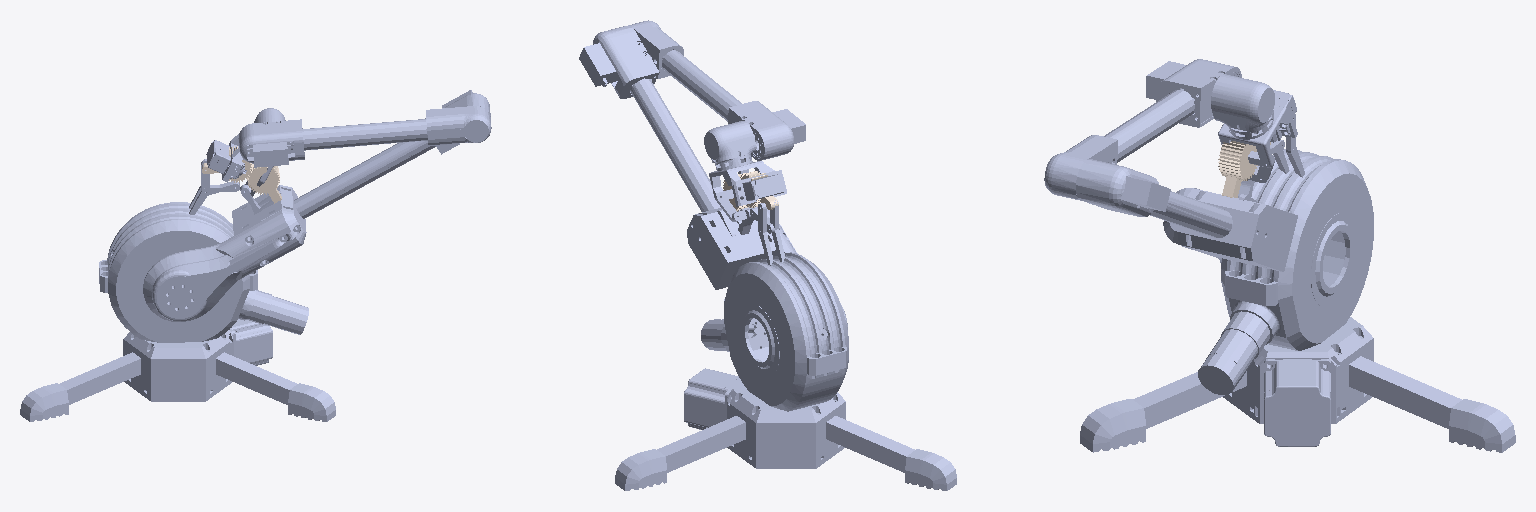
The robot description file, URDF, robot "urdf sin gripper":
<?xml version="1.0" encoding="utf-8"?>
<!-- This URDF was automatically created by SolidWorks to URDF Exporter! Originally created by Stephen Brawner (brawner@gmail.com) 
     Commit Version: 1.6.0-4-g7f85cfe  Build Version: 1.6.7995.38578
     For more information, please see http://wiki.ros.org/sw_urdf_exporter -->
<robot
  name="urdf sin gripper">
  <link
    name="base_link">
    <inertial>
      <origin
        xyz="0.0620154234110682 0.0287828530200332 0.0194399840557853"
        rpy="0 0 0" />
      <mass
        value="0.814654269422783" />
      <inertia
        ixx="0.00321225759807019"
        ixy="-5.94963872437991E-05"
        ixz="-4.09310030216239E-06"
        iyy="0.00681091711547534"
        iyz="1.70805052077488E-07"
        izz="0.00410985447956931" />
    </inertial>
    <visual>
      <origin
        xyz="0 0 0"
        rpy="0 0 0" />
      <geometry>
        <mesh
          filename="package://urdf sin gripper/meshes/base_link.STL" />
      </geometry>
      <material
        name="">
        <color
          rgba="0.792156862745098 0.819607843137255 0.933333333333333 1" />
      </material>
    </visual>
    <collision>
      <origin
        xyz="0 0 0"
        rpy="0 0 0" />
      <geometry>
        <mesh
          filename="package://urdf sin gripper/meshes/base_link.STL" />
      </geometry>
    </collision>
  </link>
  <link
    name="1">
    <inertial>
      <origin
        xyz="0.0194962568603395 0.0112262595729474 0.0781135135871188"
        rpy="0 0 0" />
      <mass
        value="0.355121607272122" />
      <inertia
        ixx="0.00125603540832503"
        ixy="-0.000555249016360597"
        ixz="0.000259680745666649"
        iyy="0.00189659689264714"
        iyz="0.000150449864511745"
        izz="0.00165493751639618" />
    </inertial>
    <visual>
      <origin
        xyz="0 0 0"
        rpy="0 0 0" />
      <geometry>
        <mesh
          filename="package://urdf sin gripper/meshes/1.STL" />
      </geometry>
      <material
        name="">
        <color
          rgba="0.792156862745098 0.819607843137255 0.933333333333333 1" />
      </material>
    </visual>
    <collision>
      <origin
        xyz="0 0 0"
        rpy="0 0 0" />
      <geometry>
        <mesh
          filename="package://urdf sin gripper/meshes/1.STL" />
      </geometry>
    </collision>
  </link>
  <joint
    name="1"
    type="continuous">
    <origin
      xyz="0.045435 -0.019492 0.042792"
      rpy="0 0 -1.01533" />
    <parent
      link="base_link" />
    <child
      link="1" />
    <axis
      xyz="0 0 1" />
  </joint>
  <link
    name="2">
    <inertial>
      <origin
        xyz="0.0321774632843499 0.038751597886396 0.129793728764849"
        rpy="0 0 0" />
      <mass
        value="0.514087338751135" />
      <inertia
        ixx="0.00180785055102584"
        ixy="7.7480280247106E-05"
        ixz="-0.000644825608500349"
        iyy="0.00201837695644572"
        iyz="3.95369173930041E-05"
        izz="0.000642830284233535" />
    </inertial>
    <visual>
      <origin
        xyz="0 0 0"
        rpy="0 0 0" />
      <geometry>
        <mesh
          filename="package://urdf sin gripper/meshes/2.STL" />
      </geometry>
      <material
        name="">
        <color
          rgba="0.792156862745098 0.819607843137255 0.933333333333333 1" />
      </material>
    </visual>
    <collision>
      <origin
        xyz="0 0 0"
        rpy="0 0 0" />
      <geometry>
        <mesh
          filename="package://urdf sin gripper/meshes/2.STL" />
      </geometry>
    </collision>
  </link>
  <joint
    name="2"
    type="continuous">
    <origin
      xyz="0 0 0.093058"
      rpy="1.2140837 -1.0185975 2.4015789" />
    <parent
      link="1" />
    <child
      link="2" />
    <axis
      xyz="0.5 -0.86603 0" />
  </joint>
  <link
    name="3">
    <inertial>
      <origin
        xyz="0.160285270725544 0.0390539200540733 -0.0327831629997222"
        rpy="0 0 0" />
      <mass
        value="0.148273898279601" />
      <inertia
        ixx="5.33432316662096E-05"
        ixy="-3.05054815237732E-06"
        ixz="3.81633242302653E-05"
        iyy="0.000225521073819987"
        iyz="5.28305588815489E-07"
        izz="0.000231079183202213" />
    </inertial>
    <visual>
      <origin
        xyz="0 0 0"
        rpy="0 0 0" />
      <geometry>
        <mesh
          filename="package://urdf sin gripper/meshes/3.STL" />
      </geometry>
      <material
        name="">
        <color
          rgba="0.792156862745098 0.819607843137255 0.933333333333333 1" />
      </material>
    </visual>
    <collision>
      <origin
        xyz="0 0 0"
        rpy="0 0 0" />
      <geometry>
        <mesh
          filename="package://urdf sin gripper/meshes/3.STL" />
      </geometry>
    </collision>
  </link>
  <joint
    name="3"
    type="continuous">
    <origin
      xyz="0.11856 0.068452 0.37687"
      rpy="0 1.260502 0.5236" />
    <parent
      link="2" />
    <child
      link="3" />
    <axis
      xyz="0 -1 0" />
  </joint>
  <link
    name="4">
    <inertial>
      <origin
        xyz="0.021683 -0.016889 0.028812"
        rpy="0 0 0" />
      <mass
        value="0.0891556465" />
      <inertia
        ixx="3.18119772e-05"
        ixy="-1.64344740e-06"
        ixz="1.39260122e-06"
        iyy="2.83484290e-05"
        iyz="8.44426795e-08"
        izz="3.15928887e-05" />
    </inertial>
    <visual>
      <origin
        xyz="0 0 0"
        rpy="3.14159265 -0.16485988 -3.14159265" />
      <geometry>
        <mesh
          filename="package://brazo4/meshes/4.STL" />
      </geometry>
      <material
        name="">
        <color
          rgba="0.792156862745098 0.819607843137255 0.933333333333333 1" />
      </material>
    </visual>
    <collision>
      <origin
        xyz="0 0 0"
        rpy="3.14159265 -0.16485988 -3.14159265" />
      <geometry>
        <mesh
          filename="package://brazo4/meshes/4.STL" />
      </geometry>
    </collision>
  </link>
  <joint
    name="4"
    type="continuous">
    <origin
      xyz="0.2336495 0 -0.0478555"
      rpy="0 2.0595163 0" />
    <parent
      link="3" />
    <child
      link="4" />
    <axis
      xyz="0 -1 0" />
  </joint>
  <link
    name="left_link">
    <inertial>
      <origin
        xyz="-0.000469947739679344 0.0174936888359443 -0.0029999999999992"
        rpy="0 0 0" />
      <mass
        value="0.00336762222486258" />
      <inertia
        ixx="6.27470613399457E-07"
        ixy="1.55947433705621E-08"
        ixz="1.32348898008484E-23"
        iyy="4.73790672083763E-08"
        iyz="-6.15422375739453E-22"
        izz="6.1872264352679E-07" />
    </inertial>
    <visual>
      <origin
        xyz="0 0 0"
        rpy="0 0 0" />
      <geometry>
        <mesh
          filename="package://brazo4/meshes/left_link.STL" />
      </geometry>
      <material
        name="">
        <color
          rgba="0.792156862745098 0.819607843137255 0.933333333333333 1" />
      </material>
    </visual>
    <collision>
      <origin
        xyz="0 0 0"
        rpy="0 0 0" />
      <geometry>
        <mesh
          filename="package://brazo4/meshes/left_link.STL" />
      </geometry>
    </collision>
  </link>
  <joint
    name="left_joint"
    type="continuous">
    <origin
      xyz="0.050729 0 0.063431"
      rpy="1.570793 0.24573 -3.141593" />
    <parent
      link="4" />
    <child
      link="left_link" />
    <axis
      xyz="0 0 1" />
  </joint>
  <link
    name="right_link">
    <inertial>
      <origin
        xyz="4.44089209850063E-15 -0.0174999999999941 0.00299999999999842"
        rpy="0 0 0" />
      <mass
        value="0.00336762222486259" />
      <inertia
        ixx="6.27889548162521E-07"
        ixy="1.11834818817169E-21"
        ixz="1.98523347012727E-23"
        iyy="4.69601324453143E-08"
        iyz="-4.11108764438855E-22"
        izz="6.18722643526792E-07" />
    </inertial>
    <visual>
      <origin
        xyz="0 0 0"
        rpy="0 0 0" />
      <geometry>
        <mesh
          filename="package://brazo4/meshes/right_link.STL" />
      </geometry>
      <material
        name="">
        <color
          rgba="0.792156862745098 0.819607843137255 0.933333333333333 1" />
      </material>
    </visual>
    <collision>
      <origin
        xyz="0 0 0"
        rpy="0 0 0" />
      <geometry>
        <mesh
          filename="package://brazo4/meshes/right_link.STL" />
      </geometry>
    </collision>
  </link>
  <joint
    name="right_joint"
    type="continuous">
    <origin
      xyz="0.059521 0 0.055264"
      rpy="1.5708 -1.423133 0" />
    <parent
      link="4" />
    <child
      link="right_link" />
    <axis
      xyz="0 0 1" />
  </joint>
  <link
    name="left_gear">
    <inertial>
      <origin
        xyz="-0.0026795656578391 9.41469124882133E-14 -0.00283964882715954"
        rpy="0 0 0" />
      <mass
        value="0.0208170455983242" />
      <inertia
        ixx="4.74146880578324E-06"
        ixy="1.37642853928824E-21"
        ixz="-1.89418670297643E-08"
        iyy="3.75851791717856E-06"
        iyz="-8.5232690317464E-21"
        izz="2.19540725542138E-06" />
    </inertial>
    <visual>
      <origin
        xyz="0 0 0"
        rpy="0 0 0" />
      <geometry>
        <mesh
          filename="package://brazo4/meshes/left_gear.STL" />
      </geometry>
      <material
        name="">
        <color
          rgba="1 0.949019607843137 0.909803921568627 1" />
      </material>
    </visual>
    <collision>
      <origin
        xyz="0 0 0"
        rpy="0 0 0" />
      <geometry>
        <mesh
          filename="package://brazo4/meshes/left_gear.STL" />
      </geometry>
    </collision>
  </link>
  <joint
    name="left_gear joint"
    type="continuous">
    <origin
      xyz="0.024923 0 0.053281"
      rpy="2.922713 0 1.570793" />
    <parent
      link="4" />
    <child
      link="left_gear" />
    <axis
      xyz="1 0 0" />
  </joint>
  <link
    name="left_flange_link">
    <inertial>
      <origin
        xyz="0.00767435122711868 0.0771367226411808 0.015000001722807"
        rpy="0 0 0" />
      <mass
        value="0.00826543780479247" />
      <inertia
        ixx="8.37291786400787E-06"
        ixy="-5.42084452593398E-07"
        ixz="-7.71139546922056E-15"
        iyy="6.05144730729735E-07"
        iyz="-2.58716812308386E-13"
        izz="8.0691291860278E-06" />
    </inertial>
    <visual>
      <origin
        xyz="0 0 0"
        rpy="0 0 0" />
      <geometry>
        <mesh
          filename="package://brazo4/meshes/left_flange_link.STL" />
      </geometry>
      <material
        name="">
        <color
          rgba="0.792156862745098 0.819607843137255 0.933333333333333 1" />
      </material>
    </visual>
    <collision>
      <origin
        xyz="0 0 0"
        rpy="0 0 0" />
      <geometry>
        <mesh
          filename="package://brazo4/meshes/left_flange_link.STL" />
      </geometry>
    </collision>
  </link>
  <joint
    name="left_flange_joint"
    type="revolute">
    <origin
      xyz="0.012 -0.028276 -0.014373"
      rpy="-1.5708 -0.9674 1.5708" />
    <parent
      link="left_gear" />
    <child
      link="left_flange_link" />
    <axis
      xyz="0 0 1" />
    <limit
      lower="-3.14159"
      upper="3.14159"
      effort="100"
      velocity="10" />
  </joint>
  <link
    name="right_gear">
    <inertial>
      <origin
        xyz="0.00299999999999906 0.000235018102530349 -0.00268626920278137"
        rpy="0 0 0" />
      <mass
        value="0.0220238578526573" />
      <inertia
        ixx="4.81786570325031E-06"
        ixy="-8.20563167652603E-22"
        ixz="-1.85288457211878E-21"
        iyy="3.86576031906346E-06"
        iyz="1.36744377629716E-07"
        izz="2.31472851349092E-06" />
    </inertial>
    <visual>
      <origin
        xyz="0 0 0"
        rpy="0 0 0" />
      <geometry>
        <mesh
          filename="package://brazo4/meshes/right_gear.STL" />
      </geometry>
      <material
        name="">
        <color
          rgba="1 0.949019607843137 0.909803921568627 1" />
      </material>
    </visual>
    <collision>
      <origin
        xyz="0 0 0"
        rpy="0 0 0" />
      <geometry>
        <mesh
          filename="package://brazo4/meshes/right_gear.STL" />
      </geometry>
    </collision>
  </link>
  <joint
    name="right_gear_joint"
    type="continuous">
    <origin
      xyz="0.0513 0 0.028781"
      rpy="1.335933 0 -1.570793" />
    <parent
      link="4" />
    <child
      link="right_gear" />
    <axis
      xyz="1 0 0" />
  </joint>
  <link
    name="right_flange_link">
    <inertial>
      <origin
        xyz="0.00861288716235192 0.0421496228005386 1.72273731391392E-09"
        rpy="0 0 0" />
      <mass
        value="0.00826543780464267" />
      <inertia
        ixx="8.37295282606807E-06"
        ixy="-5.41833899799247E-07"
        ixz="-7.71887826415572E-15"
        iyy="6.05109768626792E-07"
        iyz="-2.58708945384009E-13"
        izz="8.06912918599556E-06" />
    </inertial>
    <visual>
      <origin
        xyz="0 0 0"
        rpy="0 0 0" />
      <geometry>
        <mesh
          filename="package://brazo4/meshes/right_flange_link.STL" />
      </geometry>
      <material
        name="">
        <color
          rgba="0.792156862745098 0.819607843137255 0.933333333333333 1" />
      </material>
    </visual>
    <collision>
      <origin
        xyz="0 0 0"
        rpy="0 0 0" />
      <geometry>
        <mesh
          filename="package://brazo4/meshes/right_flange_link.STL" />
      </geometry>
    </collision>
  </link>
  <joint
    name="right_flange_joint"
    type="revolute">
    <origin
      xyz="0.003 0.0030505 -0.034867"
      rpy="-1.5708 -1.0572 1.5708" />
    <parent
      link="right_gear" />
    <child
      link="right_flange_link" />
    <axis
      xyz="0 0 1" />
    <limit
      lower="-3.14159"
      upper="3.14159"
      effort="100"
      velocity="10" />
  </joint>
</robot>

--- Render facts (derived) ---
Views: 3 orthographic renders of the robot side by side, from view 1: azimuth 30°, elevation 25°; view 2: azimuth 150°, elevation 25°; view 3: azimuth 270°, elevation 25°.
Robot: urdf sin gripper — 11 links, 10 joints (2 revolute, 8 continuous); root link base_link; default pose: all joints at 0.
Visible links, largest first — view 1: base_link, 2, 1, 3, 4, right_gear; view 2: base_link, 1, 2, 3, 4, left_flange_link; view 3: base_link, 1, 2, 3, 4, right_gear, left_flange_link.
Link boxes in pixels (bbox=[...]): base_link: bbox=[20, 319, 335, 421]; 2: bbox=[143, 90, 490, 321]; 1: bbox=[99, 202, 308, 342]; 3: bbox=[239, 106, 491, 167]; 4: bbox=[206, 108, 285, 196]; right_gear: bbox=[247, 164, 281, 203]; base_link: bbox=[615, 368, 956, 490]; 1: bbox=[701, 252, 848, 411]; 2: bbox=[579, 25, 847, 335]; 3: bbox=[629, 20, 805, 160]; 4: bbox=[704, 121, 786, 221]; left_flange_link: bbox=[758, 200, 785, 265]; base_link: bbox=[1080, 317, 1515, 452]; 1: bbox=[1198, 149, 1373, 394]; 2: bbox=[1076, 159, 1297, 271]; 3: bbox=[1044, 59, 1241, 200]; 4: bbox=[1211, 74, 1297, 182]; right_gear: bbox=[1218, 141, 1257, 197]; left_flange_link: bbox=[1273, 114, 1304, 177].
Bounding box of the posed robot: 0.5375 × 0.3975 × 0.3578 m (x, y, z).
11 mesh visuals loaded from 11 distinct referenced files (11 binary STL).
